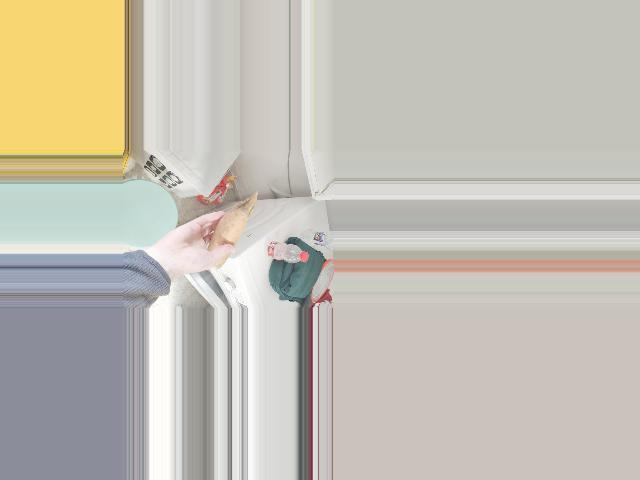sweet_potato: (205, 213, 245, 260)
